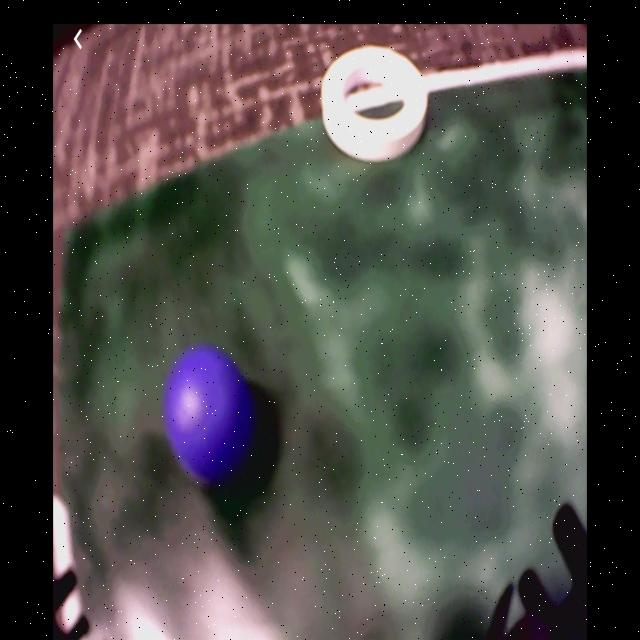ball: (165, 344, 255, 488)
